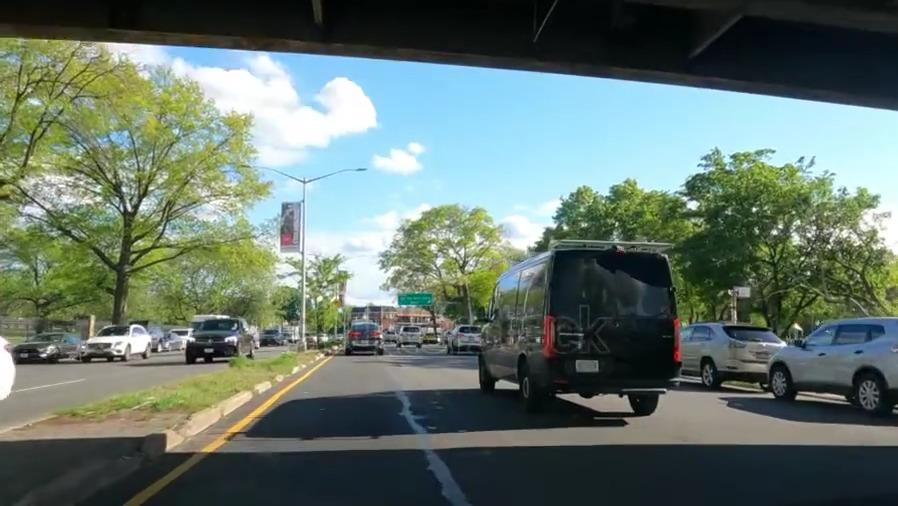car: (775, 318, 898, 403), (687, 310, 780, 383), (185, 319, 252, 364), (80, 327, 147, 363), (21, 333, 75, 361), (345, 322, 384, 352), (445, 326, 478, 351), (398, 325, 426, 347)
van: (483, 275, 663, 407)
wheel: (853, 374, 883, 411), (769, 362, 790, 402), (700, 362, 715, 386)
